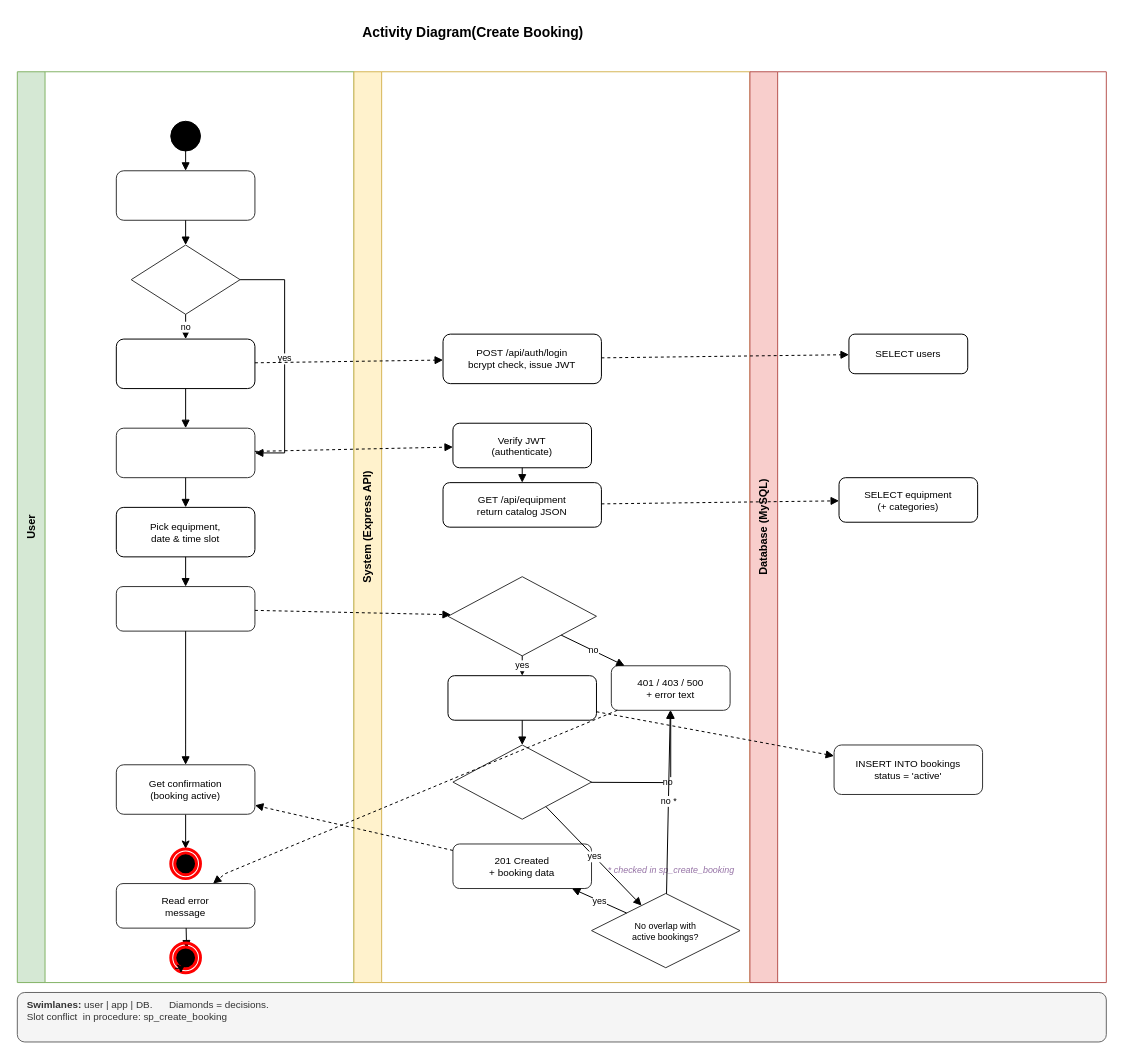
Image size: 1124x1059. Some labels were removed from this diagram. The centre of each missing label's shape, as x and y in pixels:
"Browse equipment catalog" belongs at pixel 185 452.
"Confirm booking" belongs at pixel 185 608.
"Enter email & password, click Log in" belongs at pixel 185 363.
"equipment.status = available?" belongs at pixel 522 781.
"Logged in?" belongs at pixel 185 279.
"Open web app (/auth/login or /dashboard)" belongs at pixel 185 195.
"POST /api/bookings (authorize + create)" belongs at pixel 521 697.
"Role allowed for POST bookings?" belongs at pixel 521 616.
